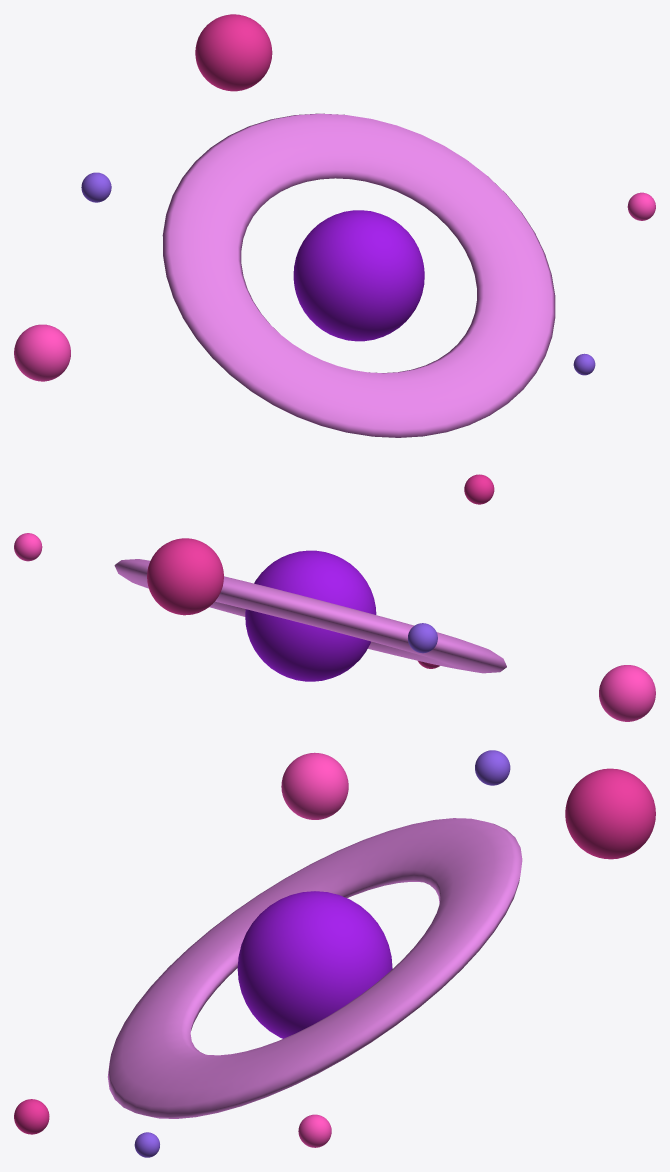
File: Planets_1.glb
3 views of the same model, one above another, from view 1: azimuth 30°, elevation 25°; view 2: azimuth 150°, elevation 25°; view 3: azimuth 270°, elevation 25° (orthographic). The views are drawn at different scales.
Visible parts, largest first — view 1: Ring, Planet, Moon4, Moon2, Moon5, Moon3; view 2: Planet, Ring, Moon4, Moon2, Moon5, Moon1; view 3: Ring, Planet, Moon4, Moon2, Moon3, Moon5, Moon1.
Part boxes in pixels (bbox=[...]): Ring: bbox=[162, 113, 555, 437]; Planet: bbox=[293, 210, 424, 341]; Moon4: bbox=[195, 14, 272, 91]; Moon2: bbox=[14, 324, 70, 381]; Moon5: bbox=[81, 172, 111, 202]; Moon3: bbox=[464, 474, 494, 504]; Planet: bbox=[245, 550, 376, 681]; Ring: bbox=[114, 559, 506, 673]; Moon4: bbox=[147, 538, 223, 615]; Moon2: bbox=[599, 665, 655, 721]; Moon5: bbox=[408, 623, 437, 653]; Moon1: bbox=[14, 533, 42, 561]; Ring: bbox=[107, 818, 522, 1118]; Planet: bbox=[237, 891, 392, 1038]; Moon4: bbox=[565, 768, 655, 859]; Moon2: bbox=[281, 752, 348, 819]; Moon3: bbox=[14, 1099, 49, 1134]; Moon5: bbox=[475, 750, 510, 785]; Moon1: bbox=[298, 1114, 331, 1147].
Size of the model in its own units: 8.62 by 3.96 by 6.39.
